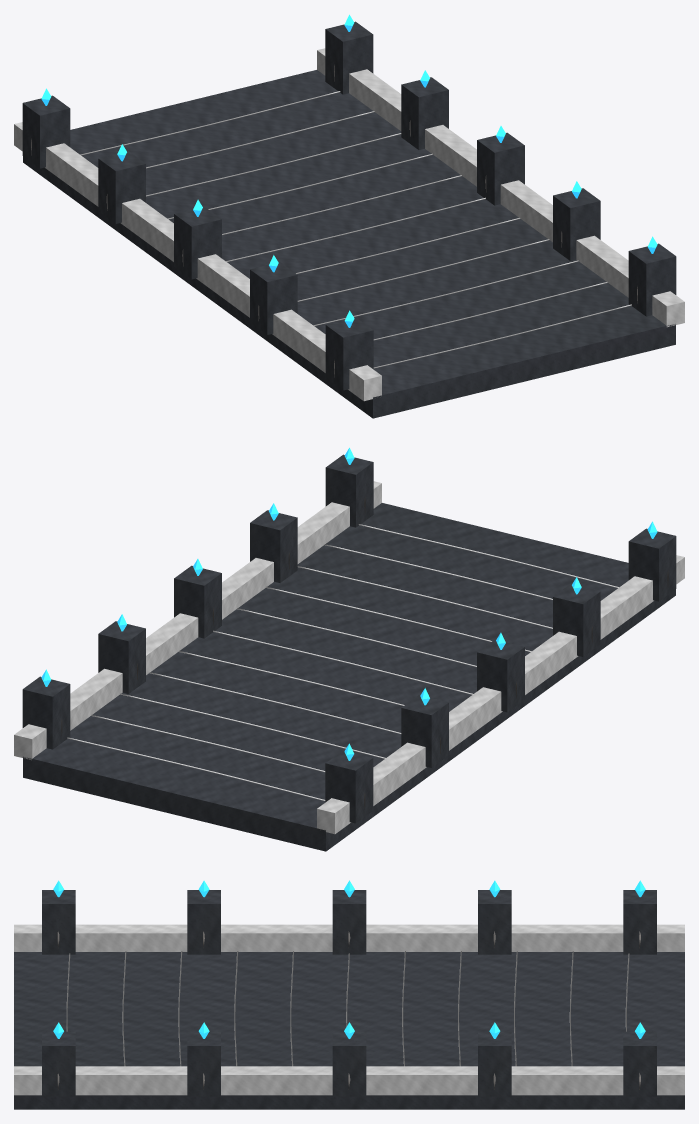
Rendered from bridge.gltf.
The picture shows the model from 3 angles, top to bottom: view 1: azimuth 30°, elevation 25°; view 2: azimuth 150°, elevation 25°; view 3: azimuth 270°, elevation 25°; orthographic projection. The views are drawn at different scales.
Parts seen in each view (by area): view 1: bridge; view 2: bridge; view 3: bridge.
Part boxes in pixels (<box>): bridge: <box>14,14,684,418</box>; bridge: <box>14,447,684,851</box>; bridge: <box>14,880,684,1109</box>.
Bounding box in the file's own units: 6.62 × 1.73 × 12.
Materials: 5 (4 with a texture image).
